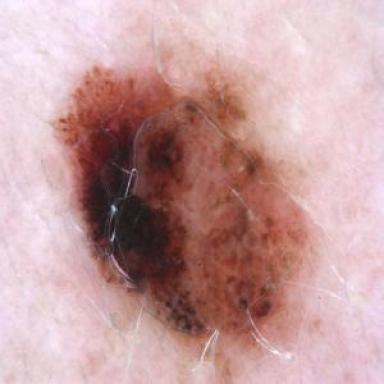Melanoma: (54, 61, 322, 340)
